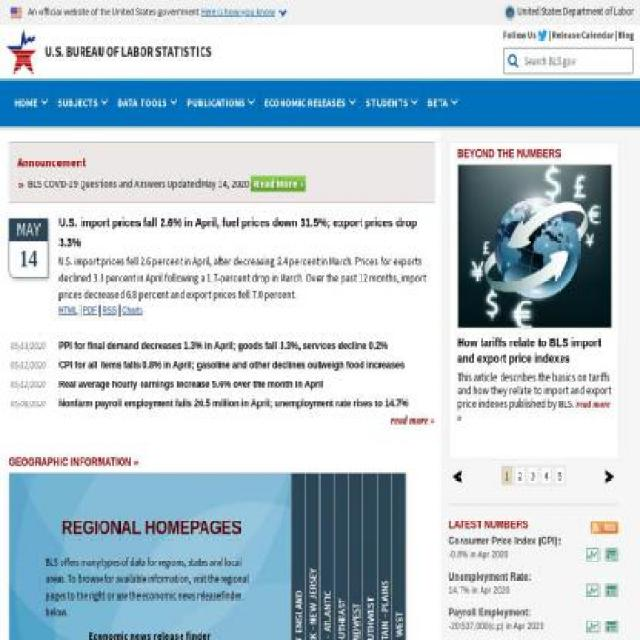button: (319, 472, 604, 640), (291, 472, 575, 640), (305, 472, 589, 640), (334, 472, 618, 640), (348, 472, 632, 640), (362, 472, 640, 640), (378, 472, 639, 640), (391, 472, 640, 640), (6, 29, 372, 65), (62, 515, 242, 539), (264, 92, 356, 114), (500, 5, 634, 20), (448, 534, 561, 548), (186, 92, 254, 114), (118, 92, 176, 114), (200, 4, 286, 18), (448, 570, 532, 584), (448, 606, 532, 620), (365, 92, 418, 114), (57, 92, 108, 114), (250, 174, 305, 192), (15, 92, 47, 114), (391, 412, 435, 428), (428, 92, 457, 114), (583, 519, 619, 535), (448, 463, 468, 489), (598, 463, 618, 489), (598, 546, 618, 562), (579, 546, 599, 562), (598, 582, 618, 598), (579, 582, 599, 598), (598, 618, 618, 634), (579, 618, 599, 634), (501, 466, 513, 486), (514, 466, 526, 486), (527, 466, 539, 486), (541, 466, 553, 486), (554, 466, 566, 486)
field: (524, 49, 633, 74), (508, 54, 518, 68)
